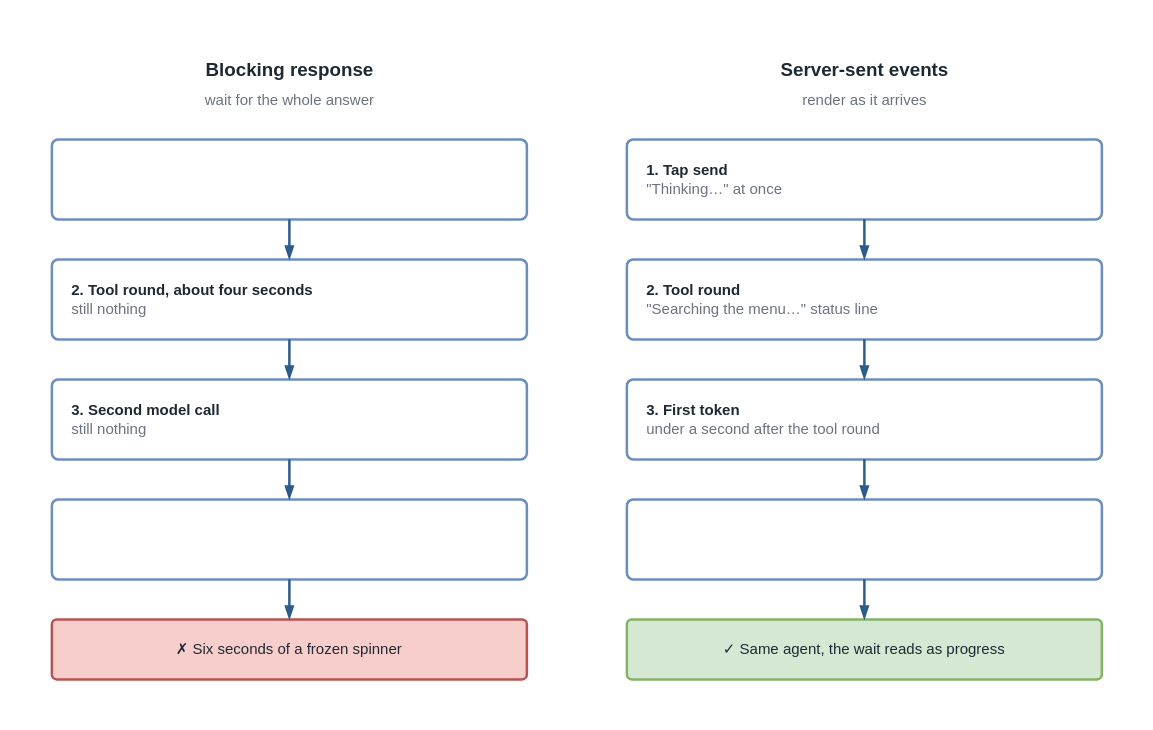
Some shapes in this 1153 by 730 pixel diagram are drawn without their labels. The shapes that lost their labels are listed below. From the top down, each one's box as (x1, y1, x2, y2) in pixels, then its label:
(50, 138, 528, 220): 1. Tap send nothing on screen
(50, 498, 528, 580): 4. The full answer appears about six seconds in
(625, 498, 1102, 580): 4. Text streams in same total time, legible wait
